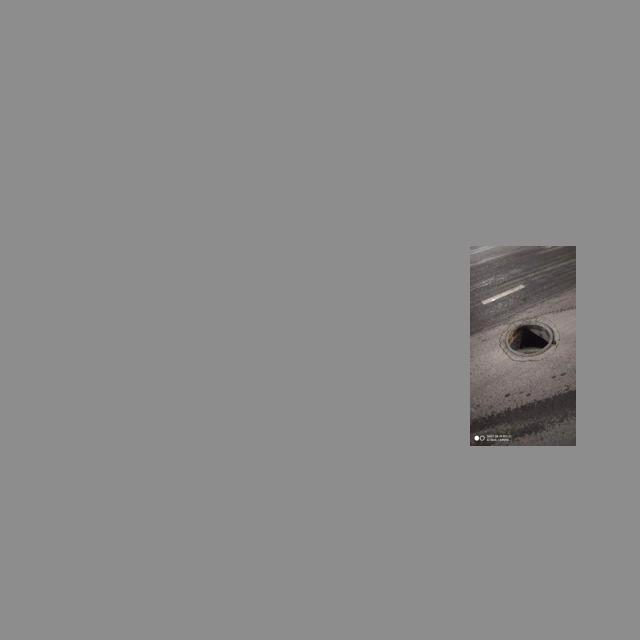lose: (496, 316, 560, 363)
